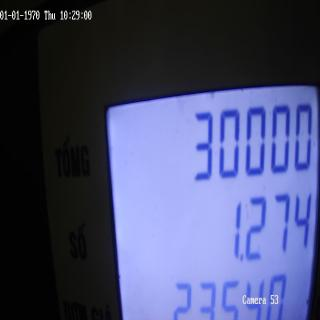screen: (96, 62, 316, 320)
